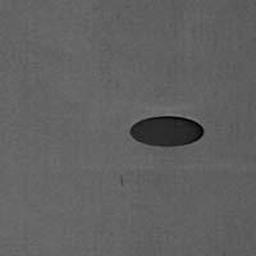Punching: (129, 115, 204, 147)
